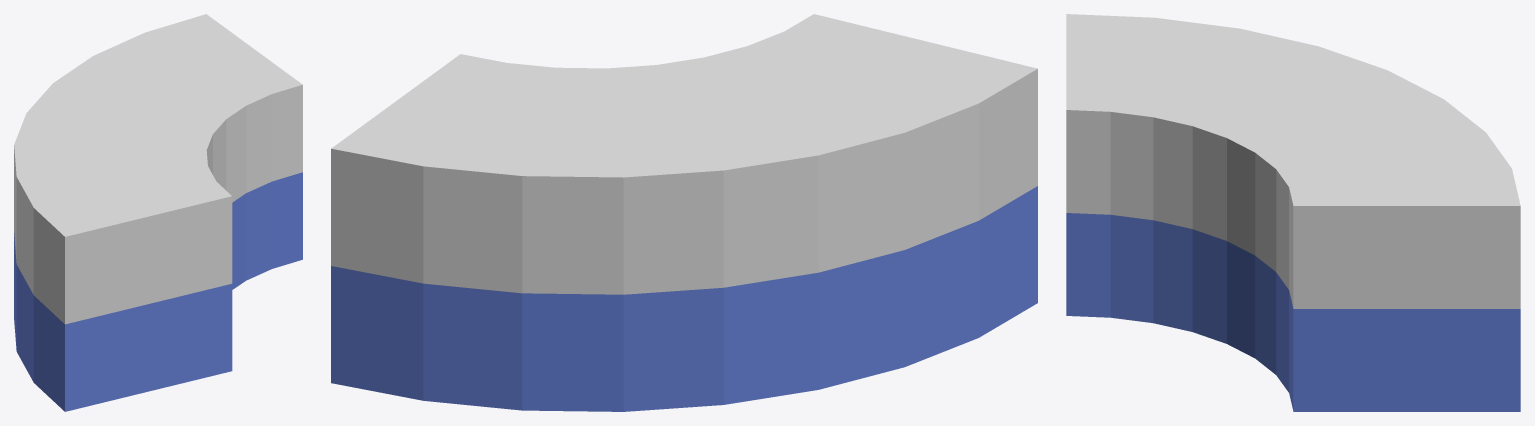
Rendered from Curve Right.fbx.
3 renders of one model, left to right at view 1: azimuth 30°, elevation 25°; view 2: azimuth 150°, elevation 25°; view 3: azimuth 270°, elevation 25°, orthographic. The views are drawn at different scales.
Visible parts, largest first — view 1: Cylinder.001; view 2: Cylinder.001; view 3: Cylinder.001.
Boxes of the visible parts, x1,y1,x2,y2 form: Cylinder.001: (14,14,302,411); Cylinder.001: (331,14,1037,411); Cylinder.001: (1066,14,1520,411).
Size of the model in its own units: 4 by 2 by 4.
